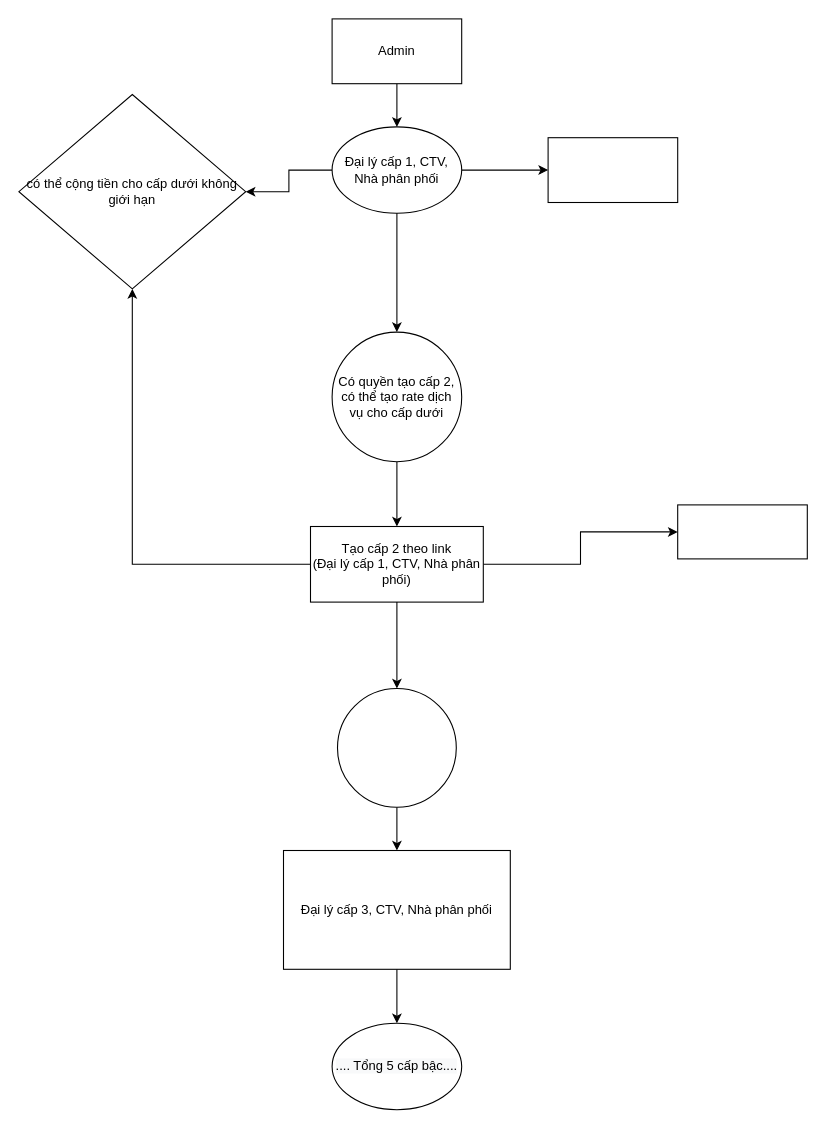
Image size: 826x1129. Some labels were removed from this diagram. The centre of each missing label's shape, as x and y in pixels:
Có quyền tạo cấp 3 có thể tạo rate dịch vụ cho cấp dưới: the point at 396,747
Hết tiền- >chân rết k sử dụng được dịch vụ: the point at 612,169
Không có quyền tạo cấp 3: the point at 742,531
